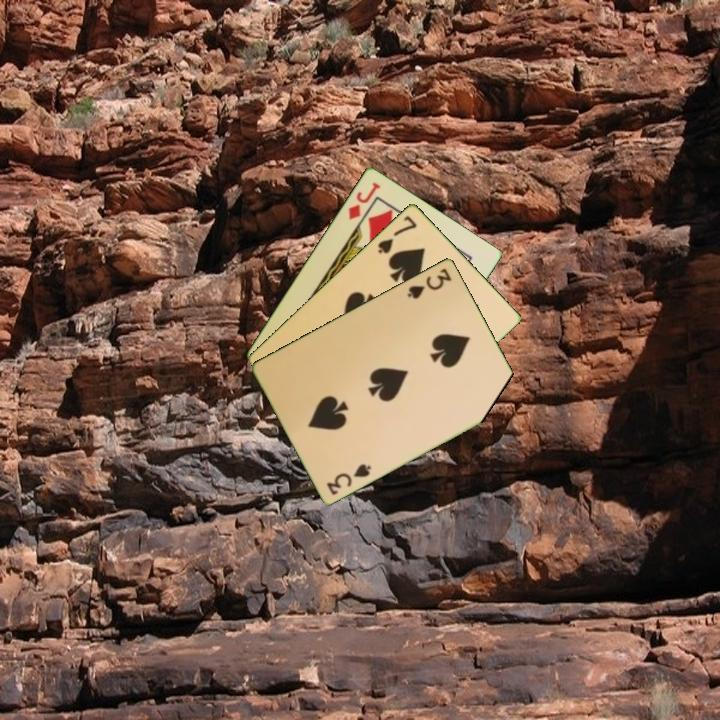3s: (323, 459, 374, 498), (404, 264, 455, 302)
7s: (374, 212, 420, 256)
Jd: (344, 178, 383, 222)
